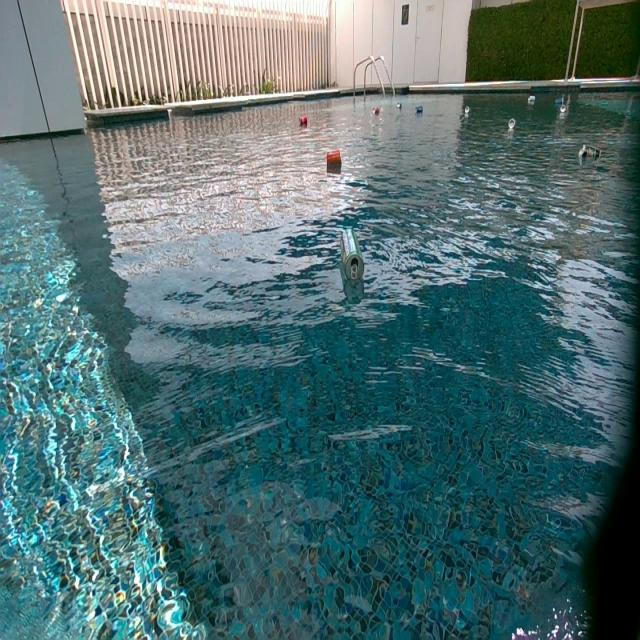Cans: (339, 228, 364, 283), (578, 144, 601, 163), (326, 150, 341, 166), (507, 116, 516, 129), (300, 115, 310, 126), (558, 102, 568, 112), (555, 96, 565, 106), (372, 106, 381, 116), (416, 105, 424, 115), (528, 96, 536, 106), (463, 105, 471, 115), (394, 102, 402, 110)
